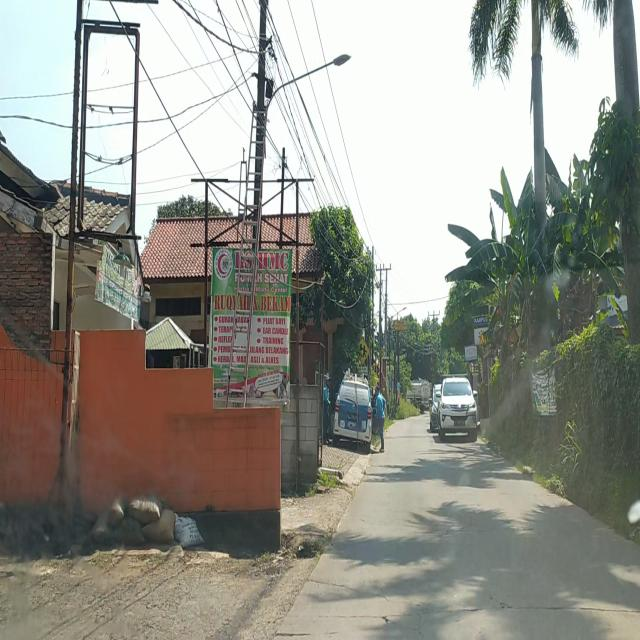Sewer Cover: (287, 604, 640, 619)
